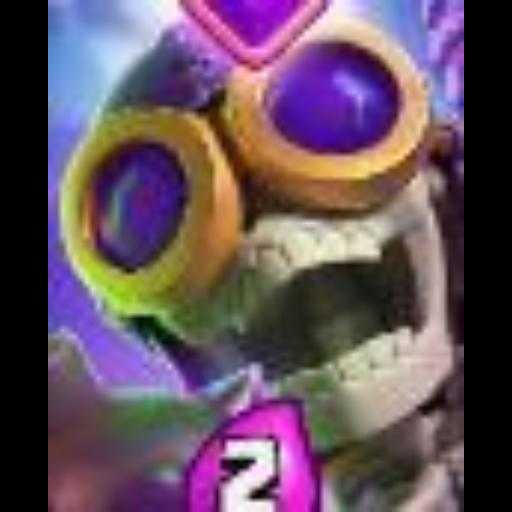bomber-evo: (51, 0, 465, 512)
